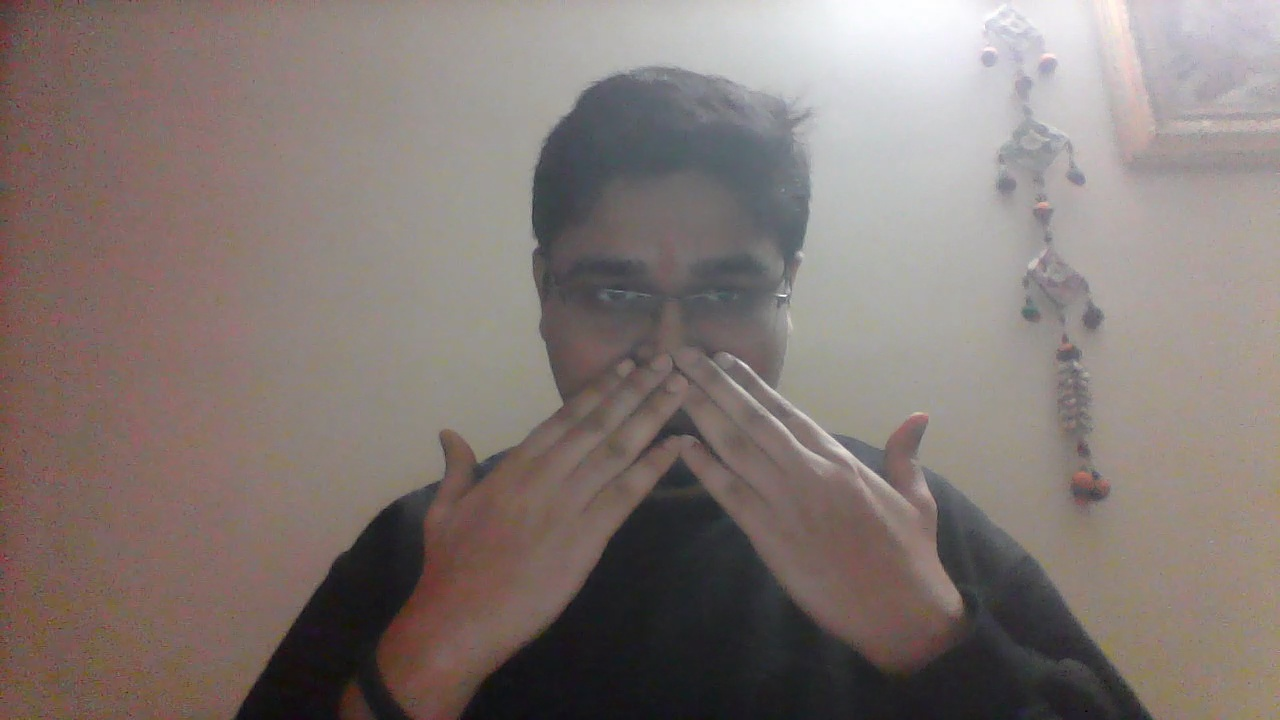Thanks: (404, 348, 949, 663)
